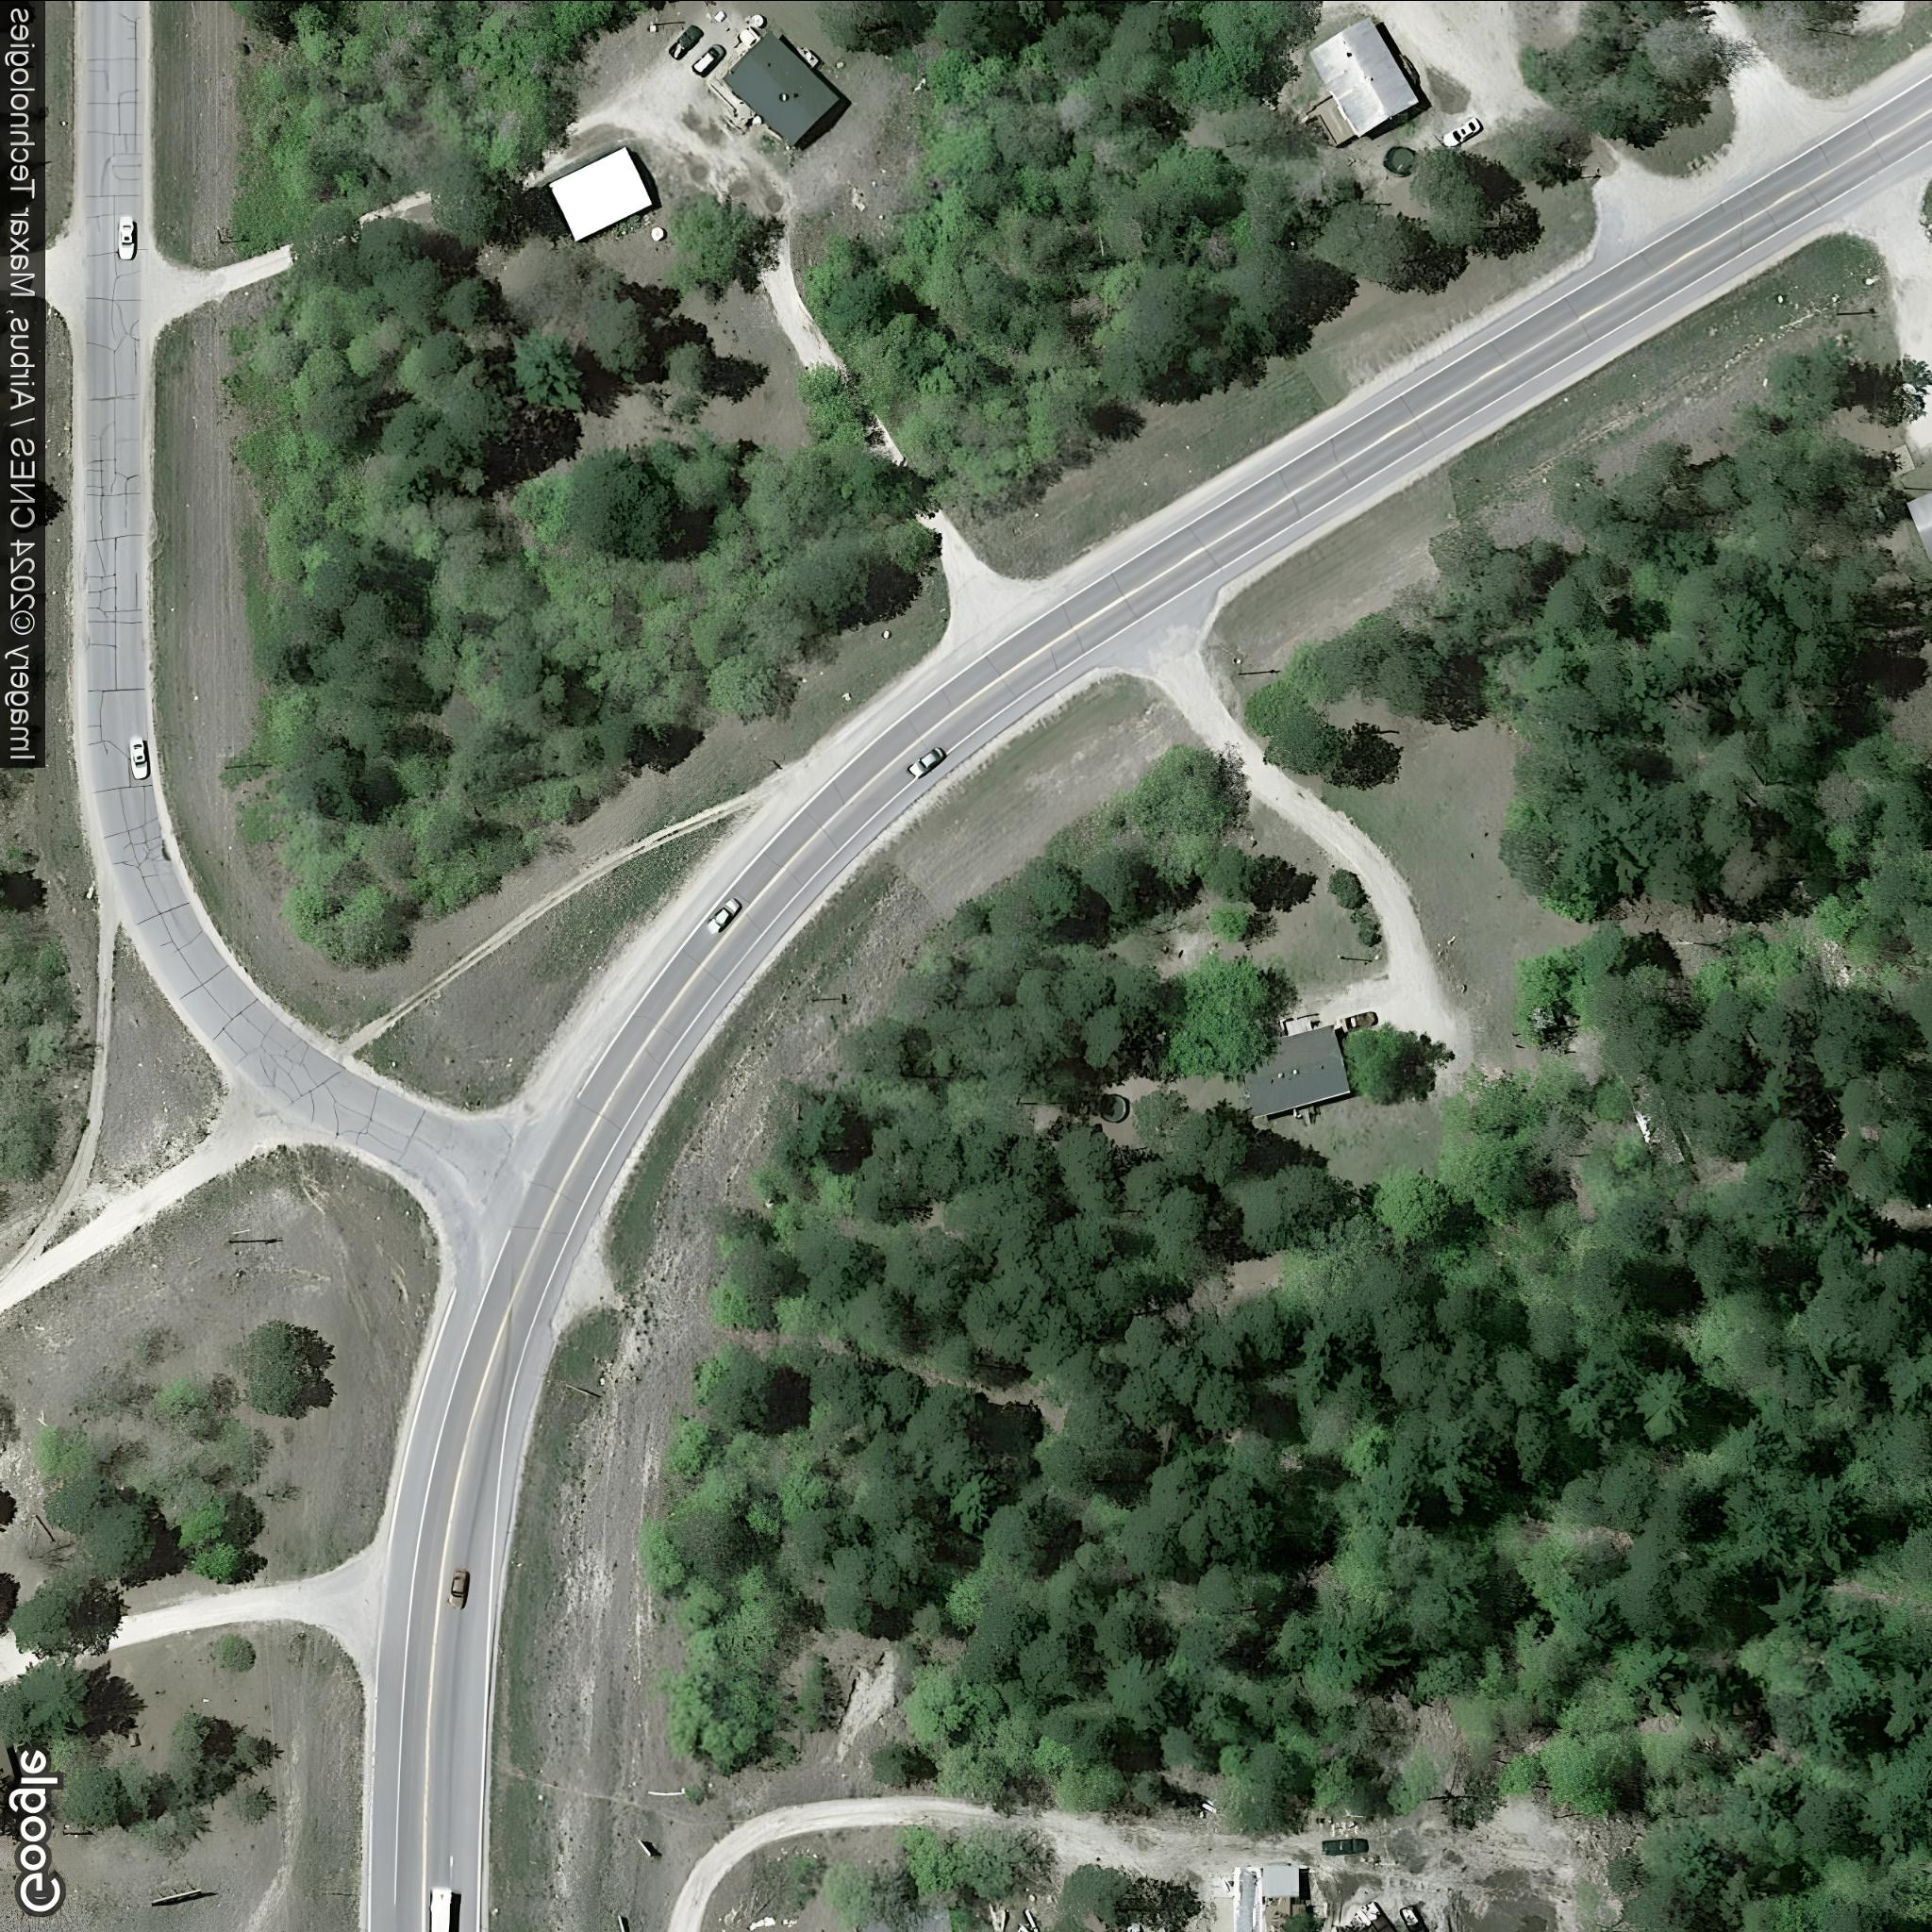Garage: (545, 142, 653, 242)
House: (1302, 11, 1424, 143), (718, 25, 846, 149), (1235, 1024, 1352, 1120), (1904, 490, 1932, 566)
